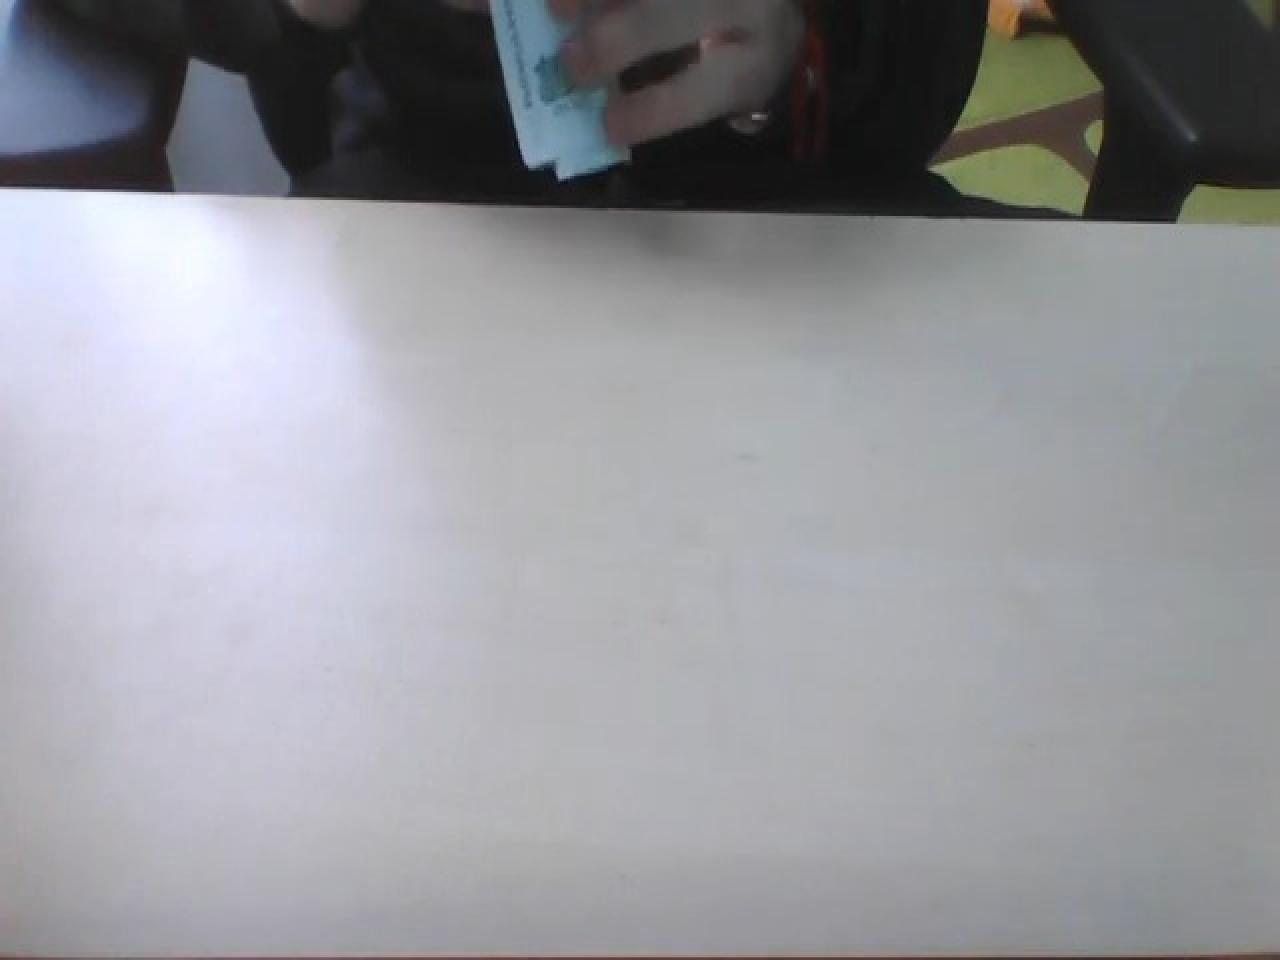100leva: (488, 0, 990, 187)
